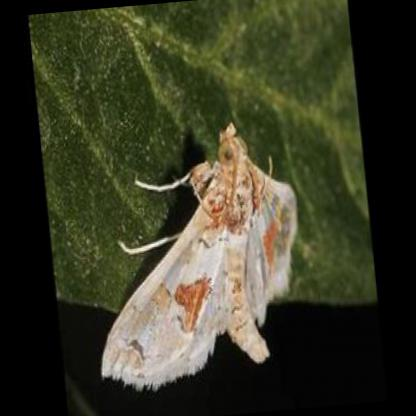leucinodes: (103, 128, 301, 388)
